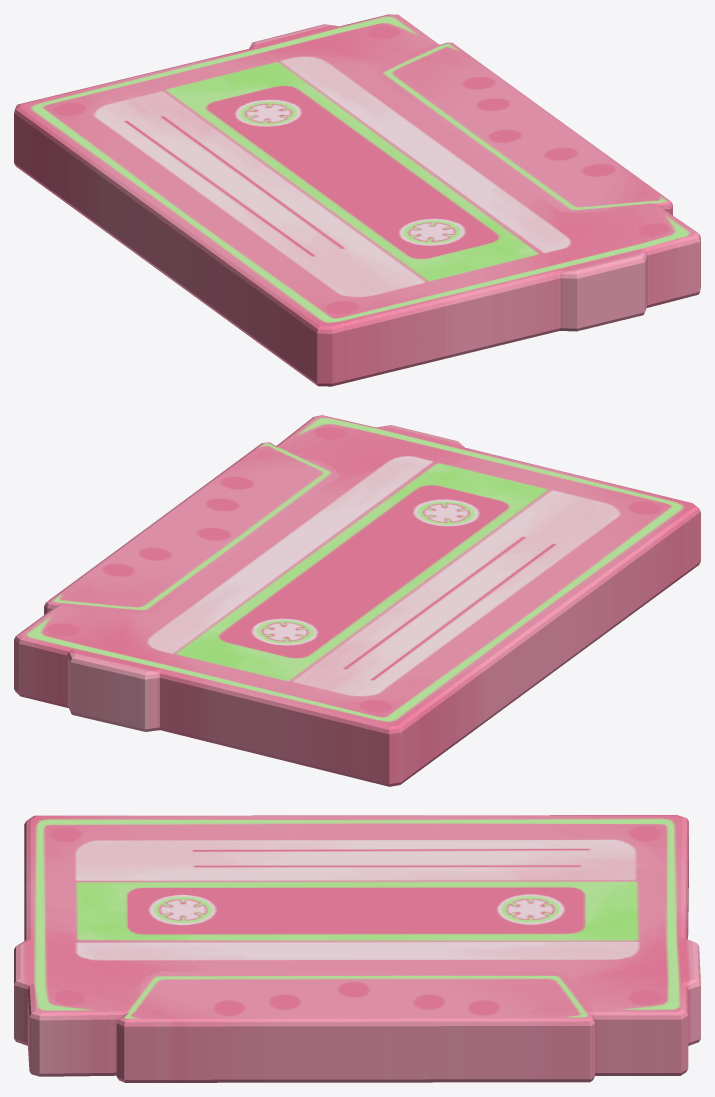
The model's file is cassette.glb.
The picture shows the model from 3 angles, top to bottom: view 1: azimuth 30°, elevation 25°; view 2: azimuth 150°, elevation 25°; view 3: azimuth 270°, elevation 25°; orthographic projection. The views are drawn at different scales.
Parts seen in each view (by area): view 1: Plane; view 2: Plane; view 3: Plane.
Part boxes in pixels (left/top/right/bottom): Plane: left=14, top=14, right=700, bottom=386; Plane: left=14, top=415, right=700, bottom=786; Plane: left=14, top=815, right=700, bottom=1082.
Size of the model in its own units: 0.7344 by 0.1048 by 1.02.
Materials: 1 (1 with a texture image).
